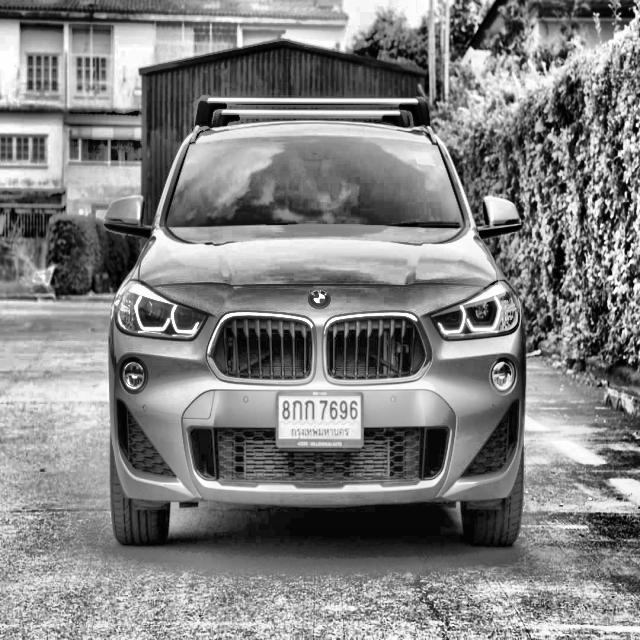license-plate: (272, 387, 366, 455)
